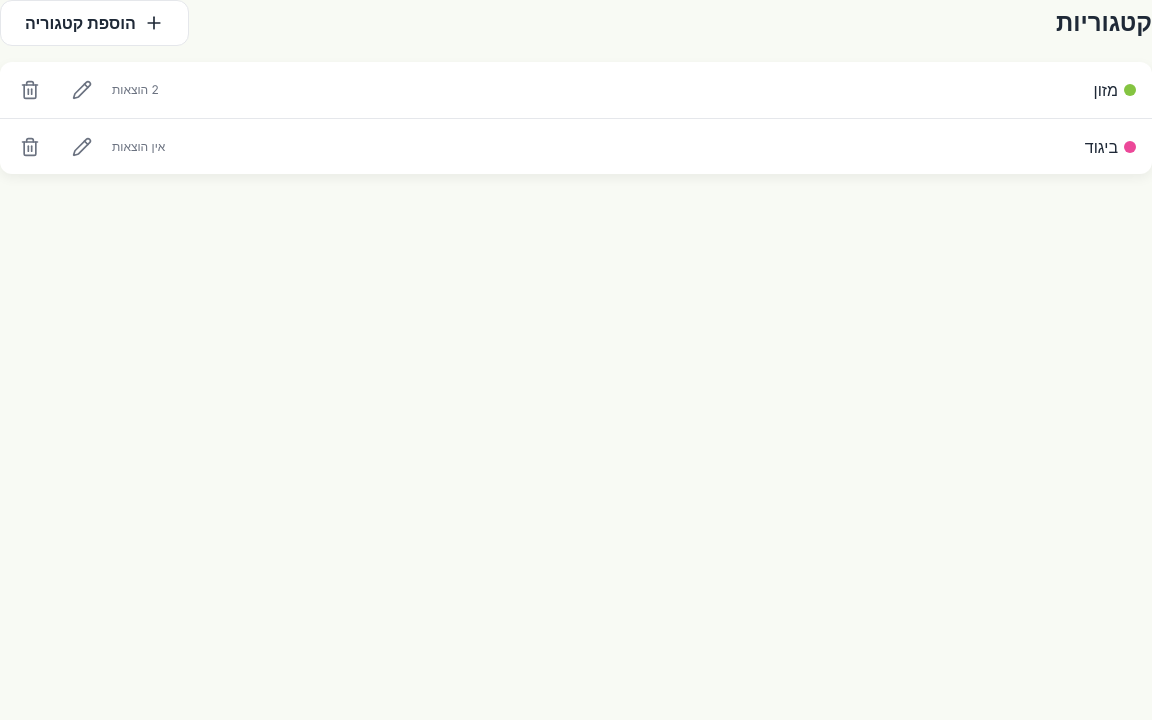
Test case: CategoriesScreen › new category defaults to the first unused palette color
Expected: the text "מזון" is shown, x1=1094 y1=78 x2=1118 y2=102
Click the button "הוספת קטגוריה" at (94, 23), box x1=0 y1=0 x2=189 y2=46
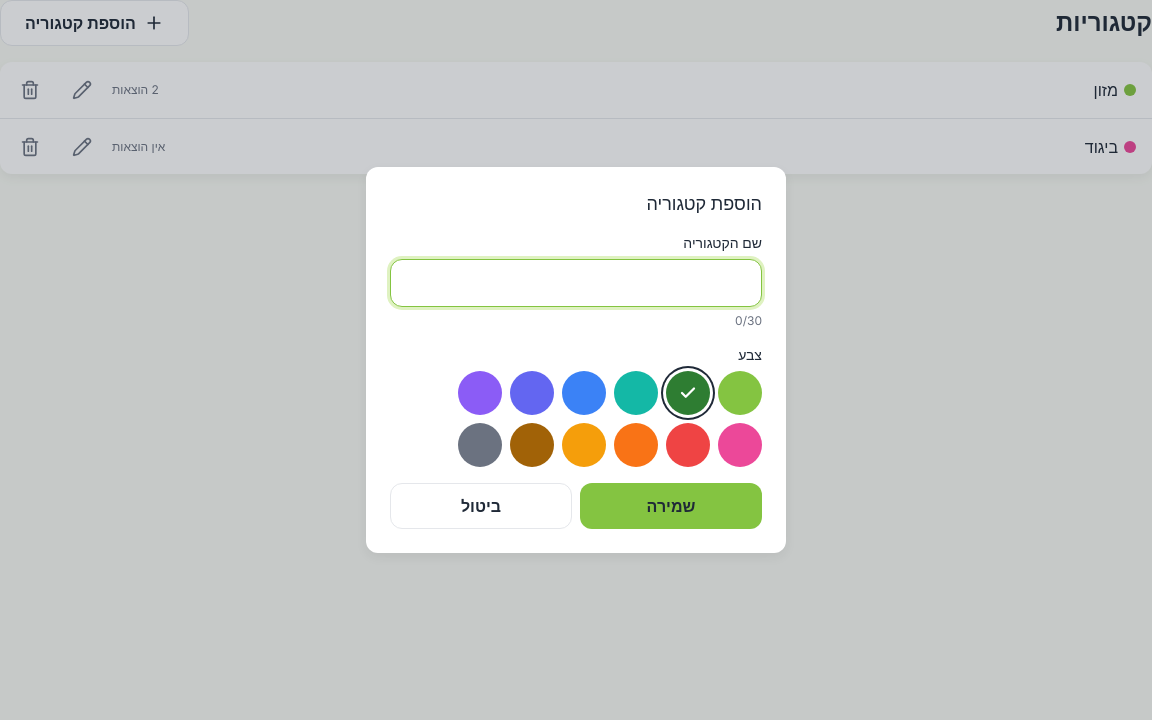
Expected: the radio button named "ירוק כהה" is checked, x1=666 y1=371 x2=710 y2=415
